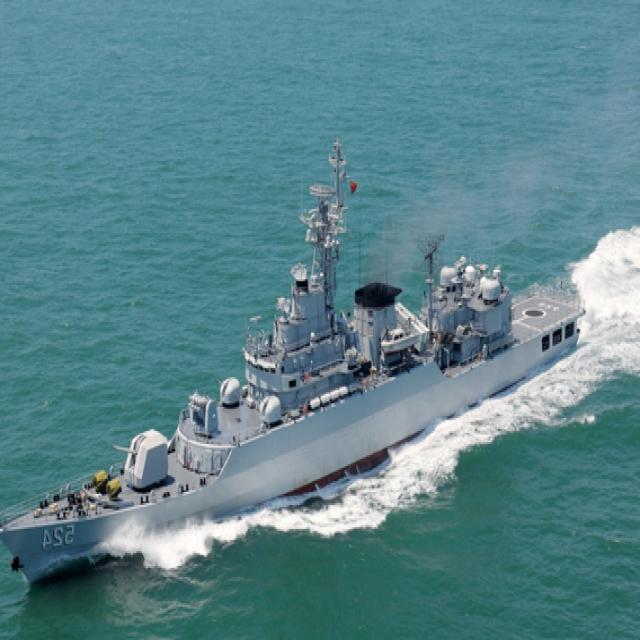navalvessels: (0, 155, 585, 594)
